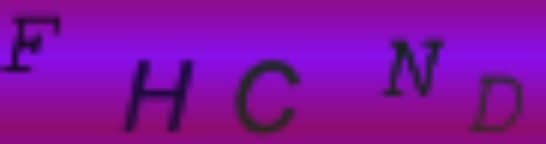C: (228, 58, 306, 140)
D: (467, 73, 527, 138)
F: (1, 9, 68, 73)
H: (112, 55, 197, 144)
N: (377, 36, 447, 103)
